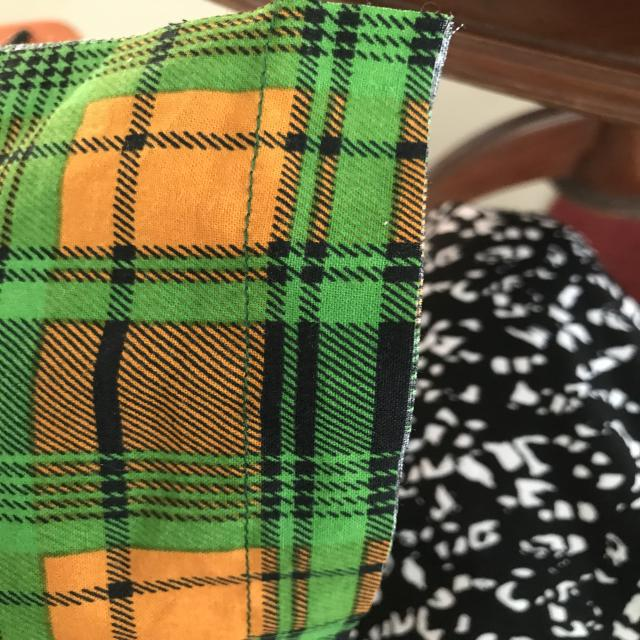good: (250, 56, 279, 143)
